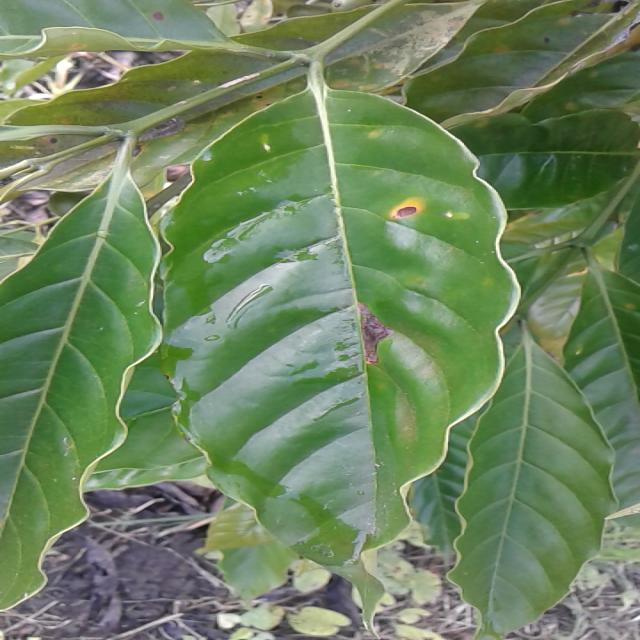Enfermedad-Roya: (164, 89, 520, 598)
